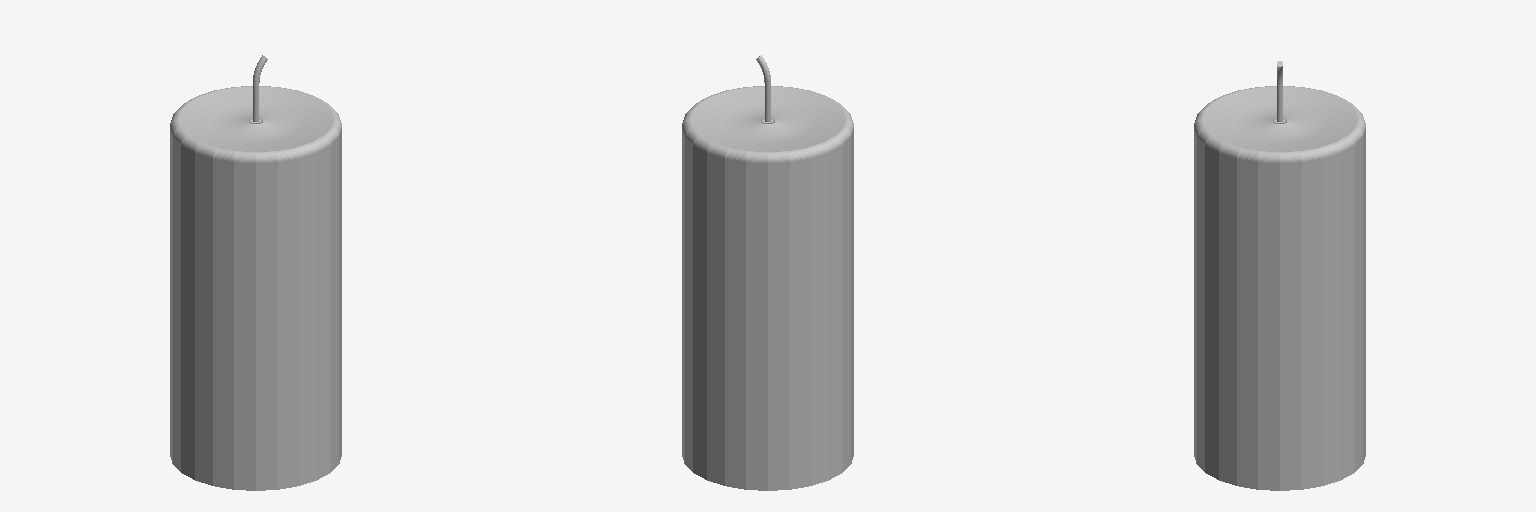
The model's file is candle.obj.
3 renders of one model, left to right at view 1: azimuth 30°, elevation 25°; view 2: azimuth 150°, elevation 25°; view 3: azimuth 270°, elevation 25°, orthographic.
Visible parts, largest first — view 1: Layer0_001; view 2: Layer0_001; view 3: Layer0_001.
Boxes of the visible parts, x1=… form: Layer0_001: x1=170, y1=55, x2=341, y2=490; Layer0_001: x1=682, y1=55, x2=853, y2=490; Layer0_001: x1=1194, y1=61, x2=1365, y2=490.
Bounding box in the file's own units: 2.76 × 7 × 2.76.